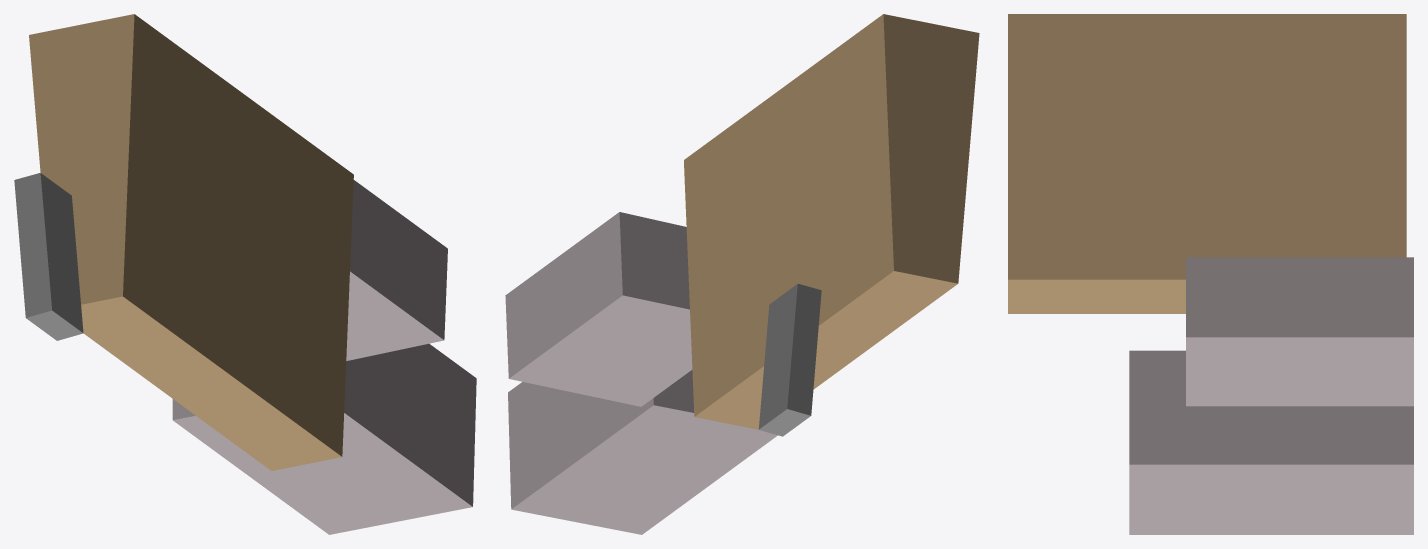
3 renders of one model, left to right at view 1: azimuth 30°, elevation 25°; view 2: azimuth 150°, elevation 25°; view 3: azimuth 270°, elevation 25°, orthographic. The views are drawn at different scales.
Parts seen in each view (by area): view 1: 0_2_1_3_0_0_3_1_0_2; view 2: 0_2_1_3_0_0_3_1_0_2; view 3: 0_2_1_3_0_0_3_1_0_2.
Boxes of the visible parts, left/top/right/bottom form: 0_2_1_3_0_0_3_1_0_2: left=14, top=14, right=476, bottom=534; 0_2_1_3_0_0_3_1_0_2: left=505, top=14, right=979, bottom=534; 0_2_1_3_0_0_3_1_0_2: left=1008, top=14, right=1413, bottom=534.
Bounding box in the file's own units: 17.26 × 22.77 × 21.38.
